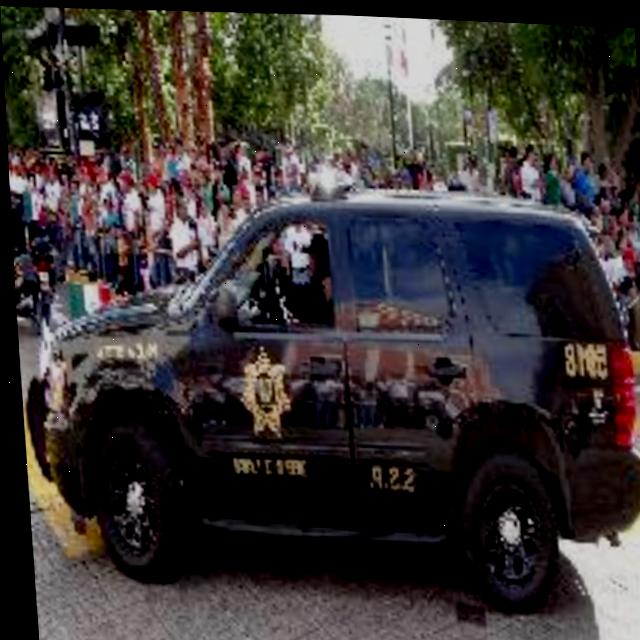emergency: (17, 159, 637, 608)
